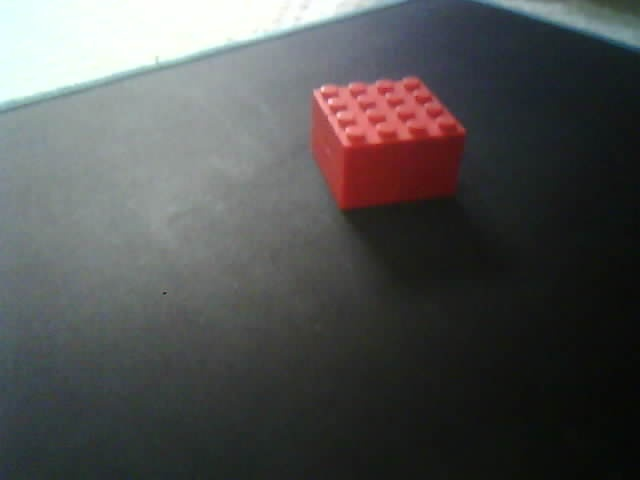lego: (309, 75, 467, 211)
